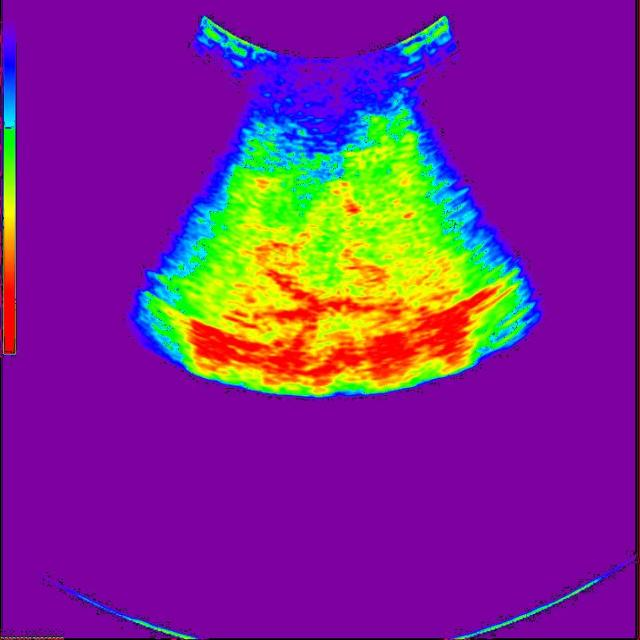lamb muscle pre: (259, 182, 384, 295)
